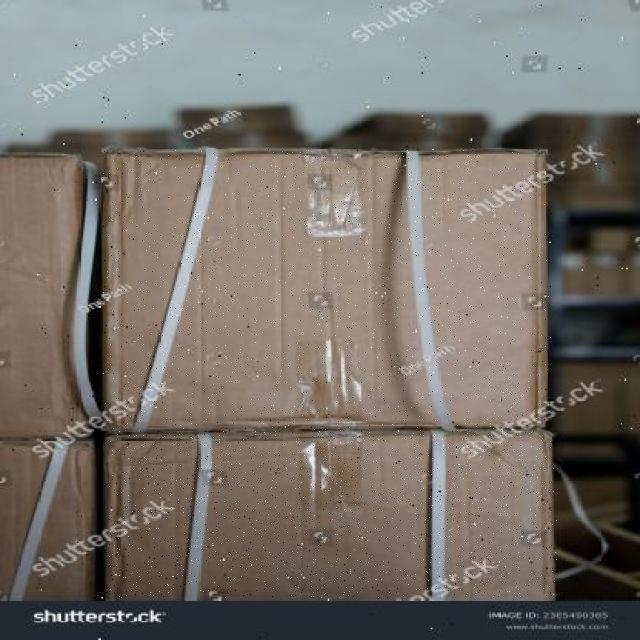BoxFace: (102, 149, 552, 431), (109, 431, 557, 598)
